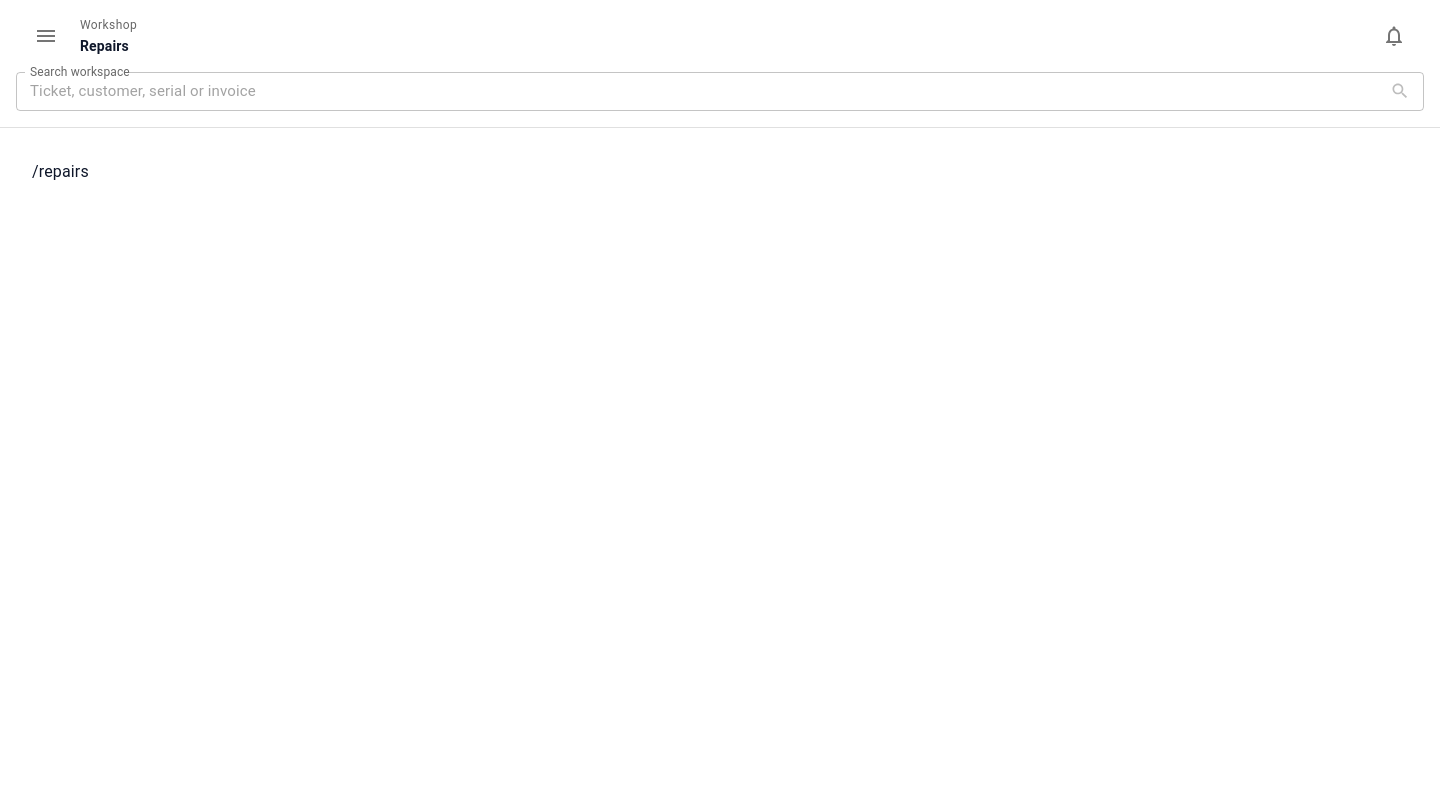
Test: Workshop ledger shell › provides labelled mobile navigation controls and closes after navigation
The image size is (1440, 810).
What coordinates should you click on to do the following:
click the button named "Open navigation"
I would click on:
 (46, 36)
Its box is [24,14,68,58].
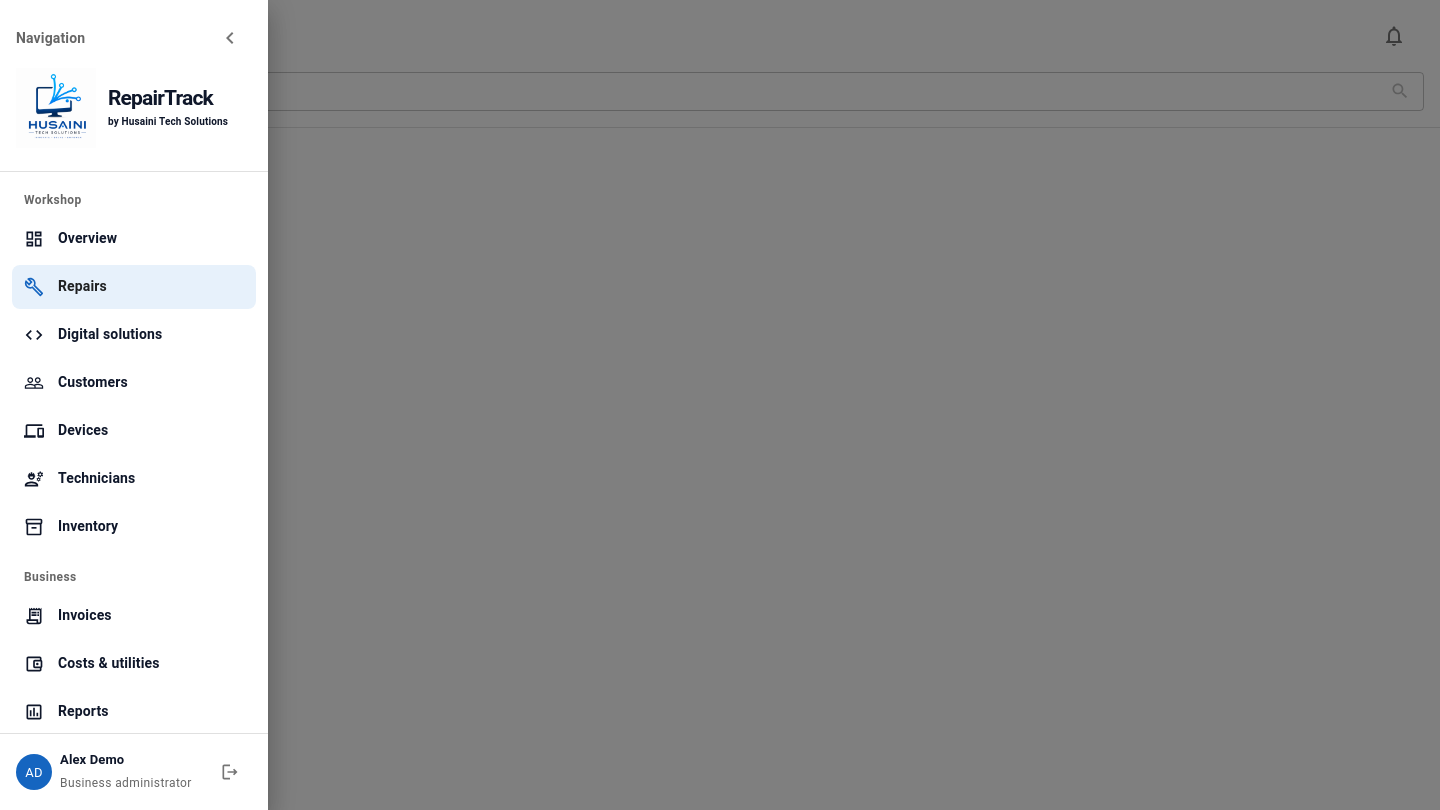
Expected: the button named "Close navigation" is shown, [208,16,252,60]
Expected: the navigation bar named "Primary navigation" is shown, [0,172,268,733]
What coordinates should you click on to do the following:
click the link "Customers"
I would click on:
 (76, 383)
Its box is [24,373,128,393].
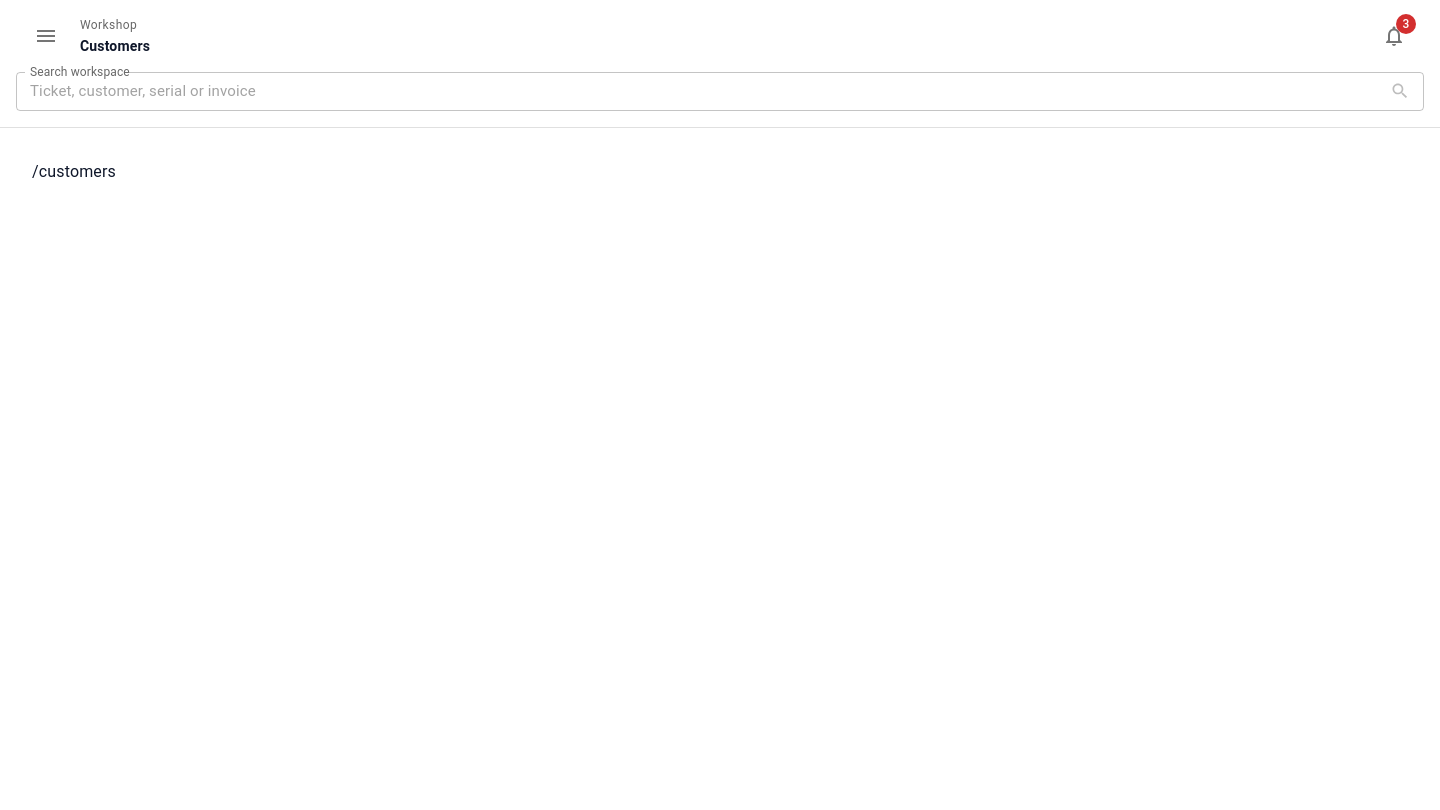
Expected: the text with test id "current-path" reads "/customers", [32,162,116,181]
